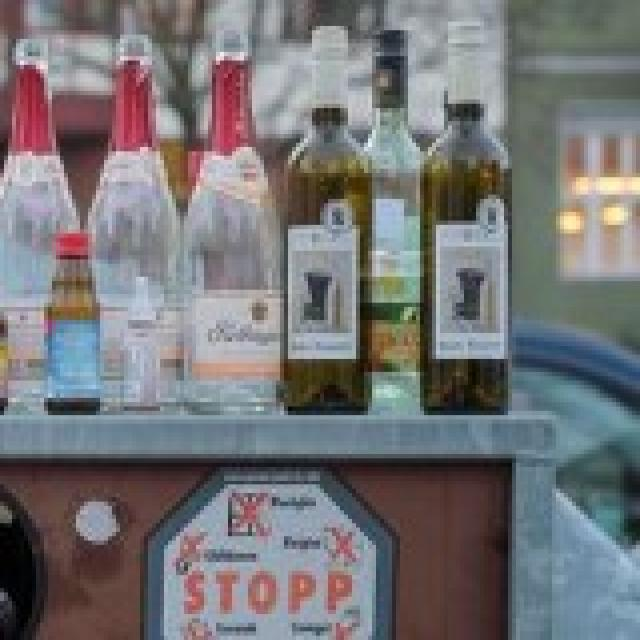electronic: (2, 23, 516, 412)
